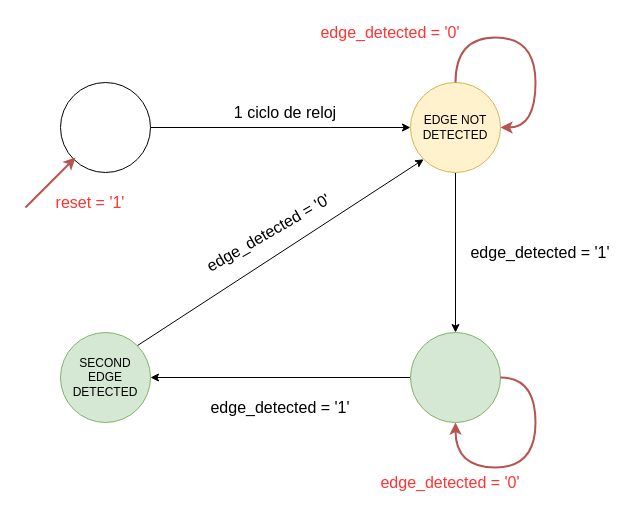
Some shapes in this 632 by 514 pixel diagram are drawn without their labels. The shapes that lost their labels are listed below. From the top down, each one's box as (x1, y1, x2, y2) in pixels, then its label:
(60, 82, 150, 172): INIT
(410, 332, 500, 422): FIRST EDGE DETECTED
